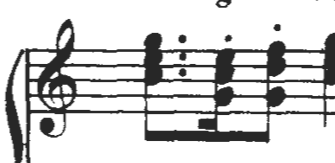treble_clef: (33, 14, 84, 141)
